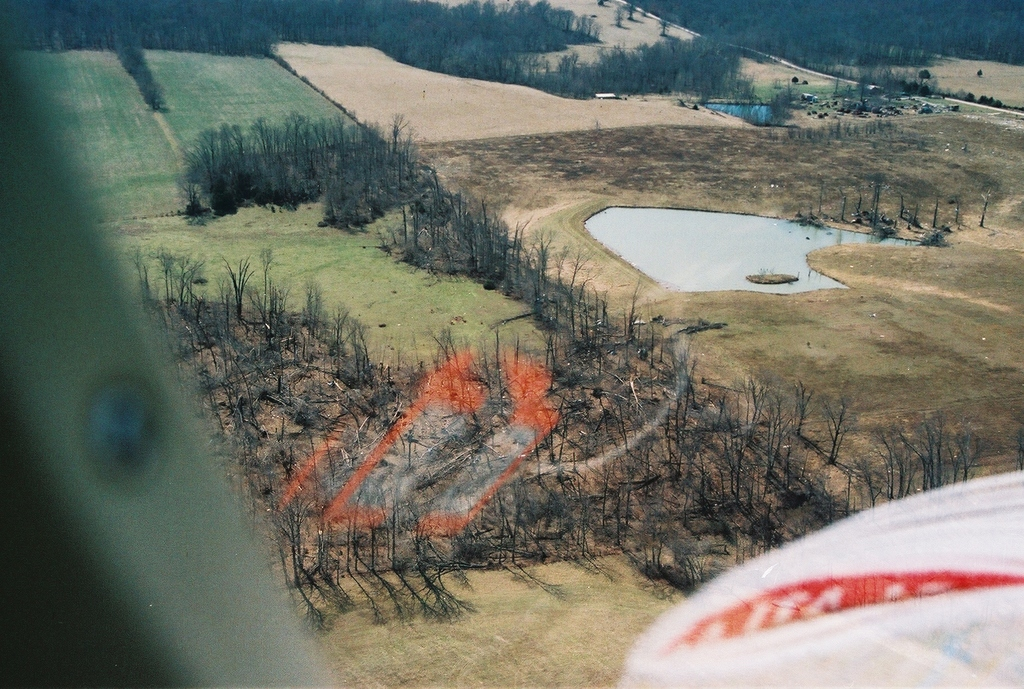Tree: (121, 112, 991, 599), (0, 0, 1023, 126)
